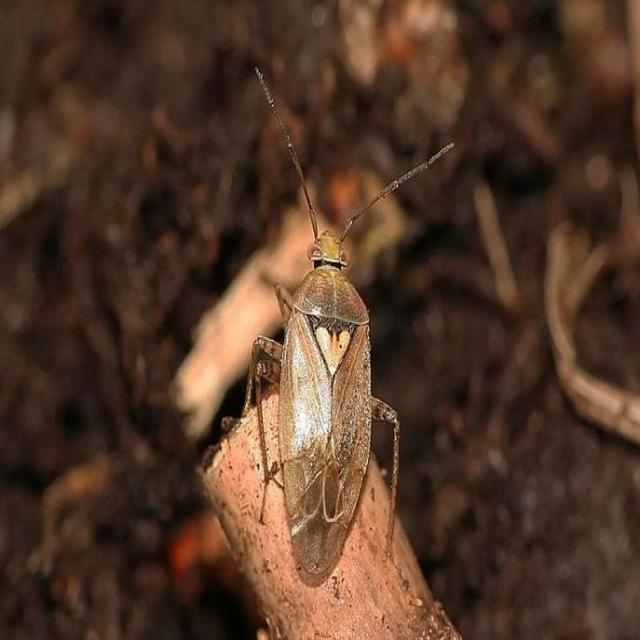Miridae-Adult-: (234, 54, 449, 588)
